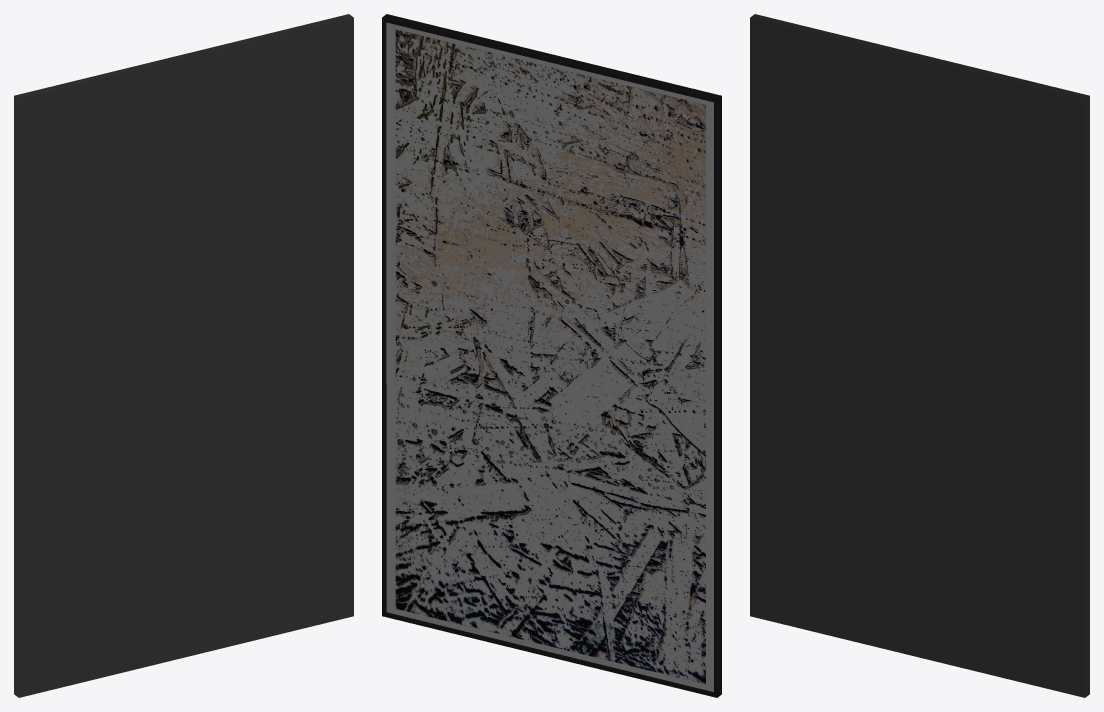
File: Painting_6fe2c2f8.obj
The picture shows the model from 3 angles, left to right: view 1: azimuth 30°, elevation 25°; view 2: azimuth 150°, elevation 25°; view 3: azimuth 330°, elevation 25°; orthographic projection.
Parts seen in each view (by area): view 1: FP227:Base14_(1)_1b99d510; view 2: FP227:Base14_(1)_1b99d510; view 3: FP227:Base14_(1)_1b99d510.
Part boxes in pixels (x1,y1,x2,y2): FP227:Base14_(1)_1b99d510: (14,14,353,697); FP227:Base14_(1)_1b99d510: (382,14,721,697); FP227:Base14_(1)_1b99d510: (750,14,1089,697).
Size of the model in its own units: 1.02 by 1.74 by 0.026.
